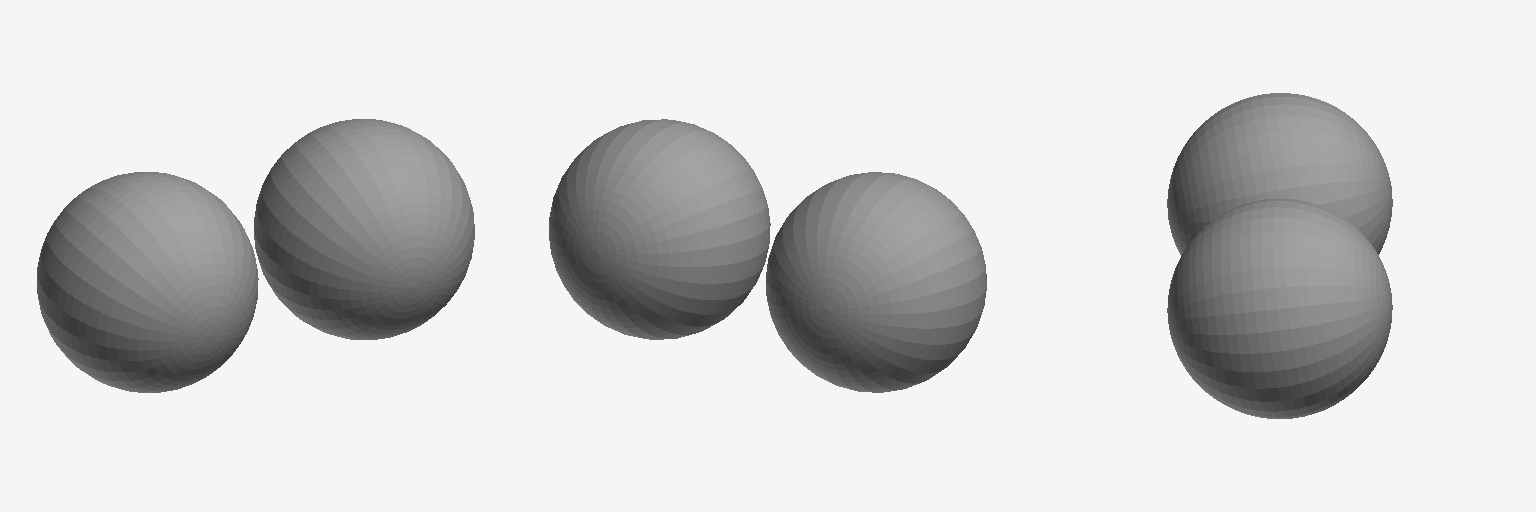
The model's file is lwjglcharactergoblin6.obj.
3 renders of one model, left to right at view 1: azimuth 30°, elevation 25°; view 2: azimuth 150°, elevation 25°; view 3: azimuth 270°, elevation 25°, orthographic.
Visible parts, largest first — view 1: Sphere; view 2: Sphere; view 3: Sphere.
Part boxes in pixels (bbox=[...]): Sphere: bbox=[37, 119, 474, 392]; Sphere: bbox=[549, 119, 986, 392]; Sphere: bbox=[1167, 93, 1392, 418].
Bounding box in the file's own units: 0.6082 × 0.285 × 0.2906.